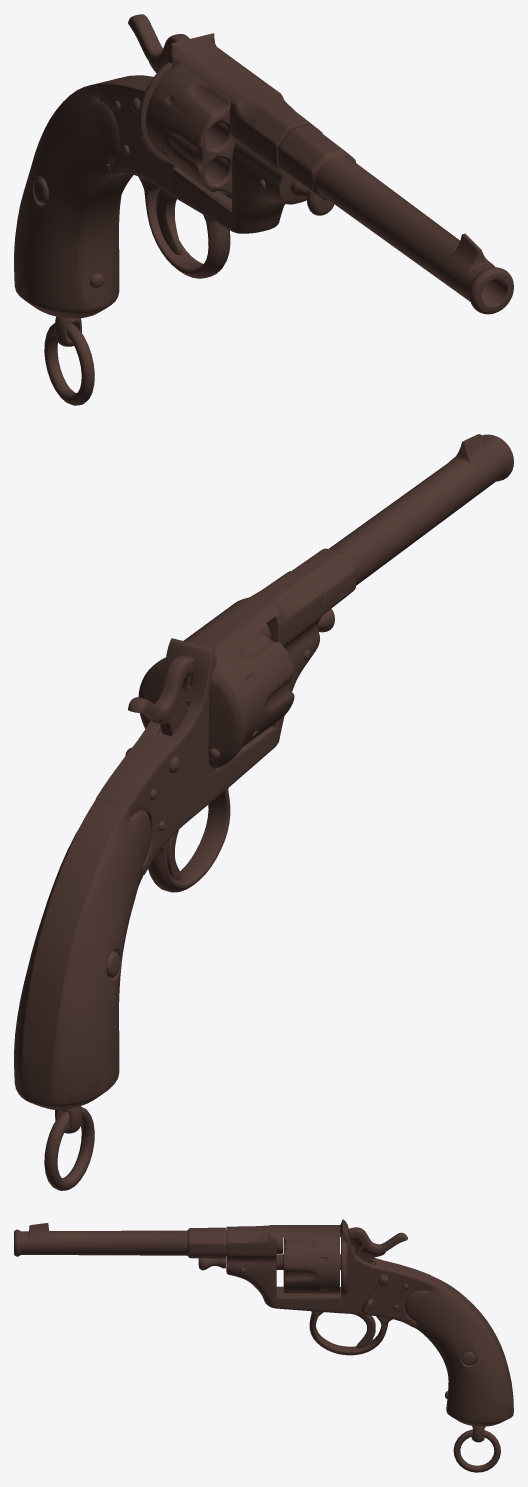
Rendered from revolver.glb.
3 views of the same model, one above another, from view 1: azimuth 30°, elevation 25°; view 2: azimuth 150°, elevation 25°; view 3: azimuth 270°, elevation 25° (orthographic). The views are drawn at different scales.
Parts seen in each view (by area): view 1: revolver; view 2: revolver; view 3: revolver.
Part boxes in pixels (x1,y1,x2,y2): revolver: (14, 14, 513, 405); revolver: (14, 434, 513, 1190); revolver: (14, 1219, 513, 1472).
Size of the model in its own units: 0.0457 by 0.1868 by 0.34.
